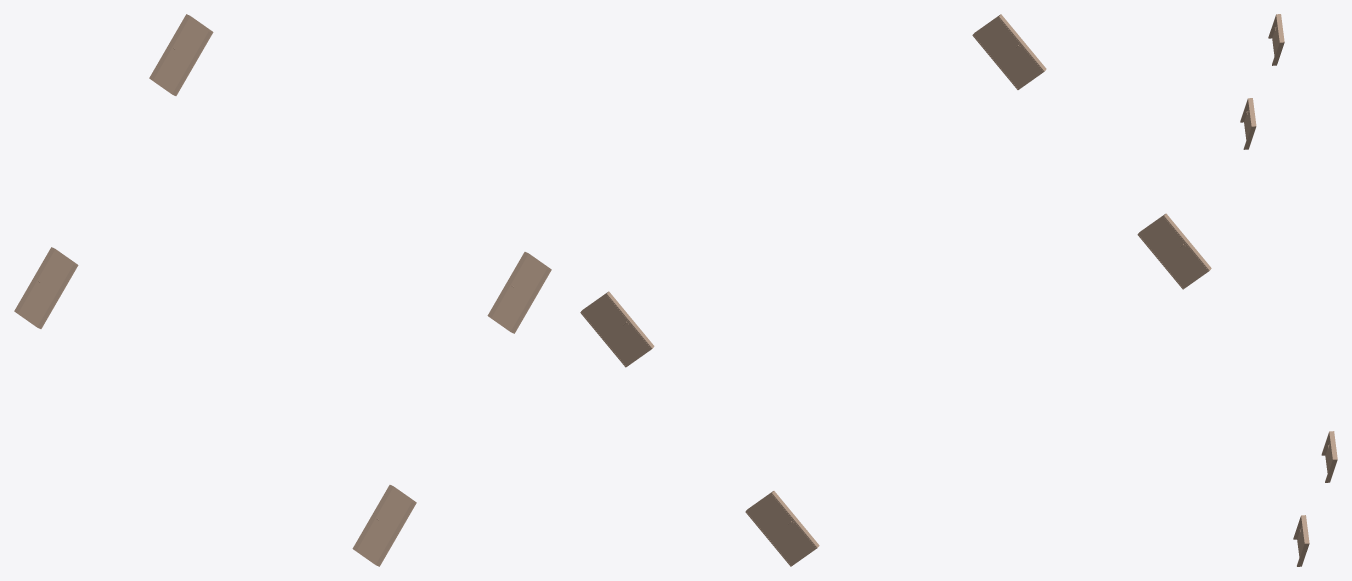
3 renders of one model, left to right at view 1: azimuth 30°, elevation 25°; view 2: azimuth 150°, elevation 25°; view 3: azimuth 270°, elevation 25°, orthographic. The views are drawn at different scales.
Parts seen in each view (by area): view 1: mesh; view 2: mesh; view 3: mesh.
Part boxes in pixels (left/top/right/bottom): mesh: left=14, top=14, right=551, bottom=566; mesh: left=580, top=14, right=1211, bottom=566; mesh: left=1240, top=14, right=1337, bottom=566.
Size of the model in its own units: 18.78 by 18.44 by 3.43.
